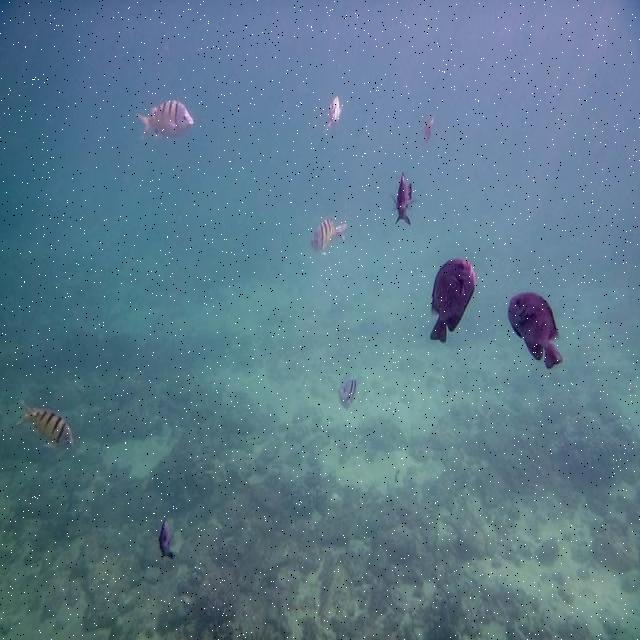fish: (507, 292, 563, 372), (430, 256, 477, 346), (20, 404, 72, 450), (136, 101, 193, 140), (310, 218, 349, 253), (392, 174, 414, 227), (158, 519, 175, 561), (326, 97, 343, 131), (340, 379, 357, 405)
